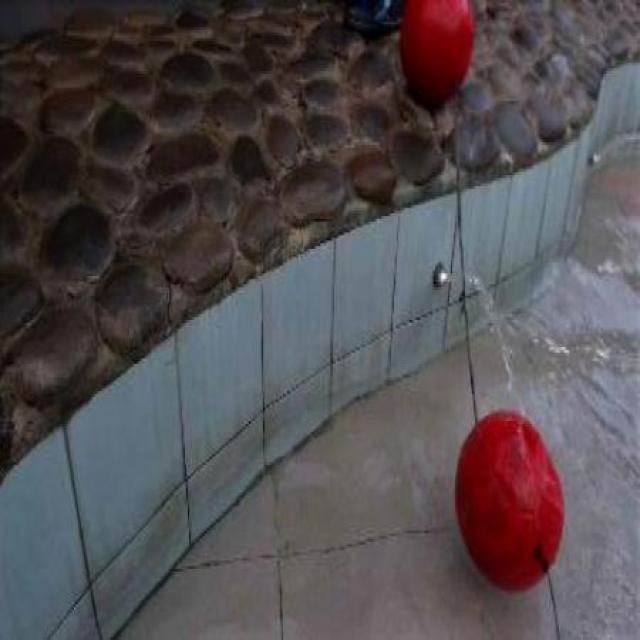buoy: (454, 410, 564, 591), (399, 1, 474, 97)
